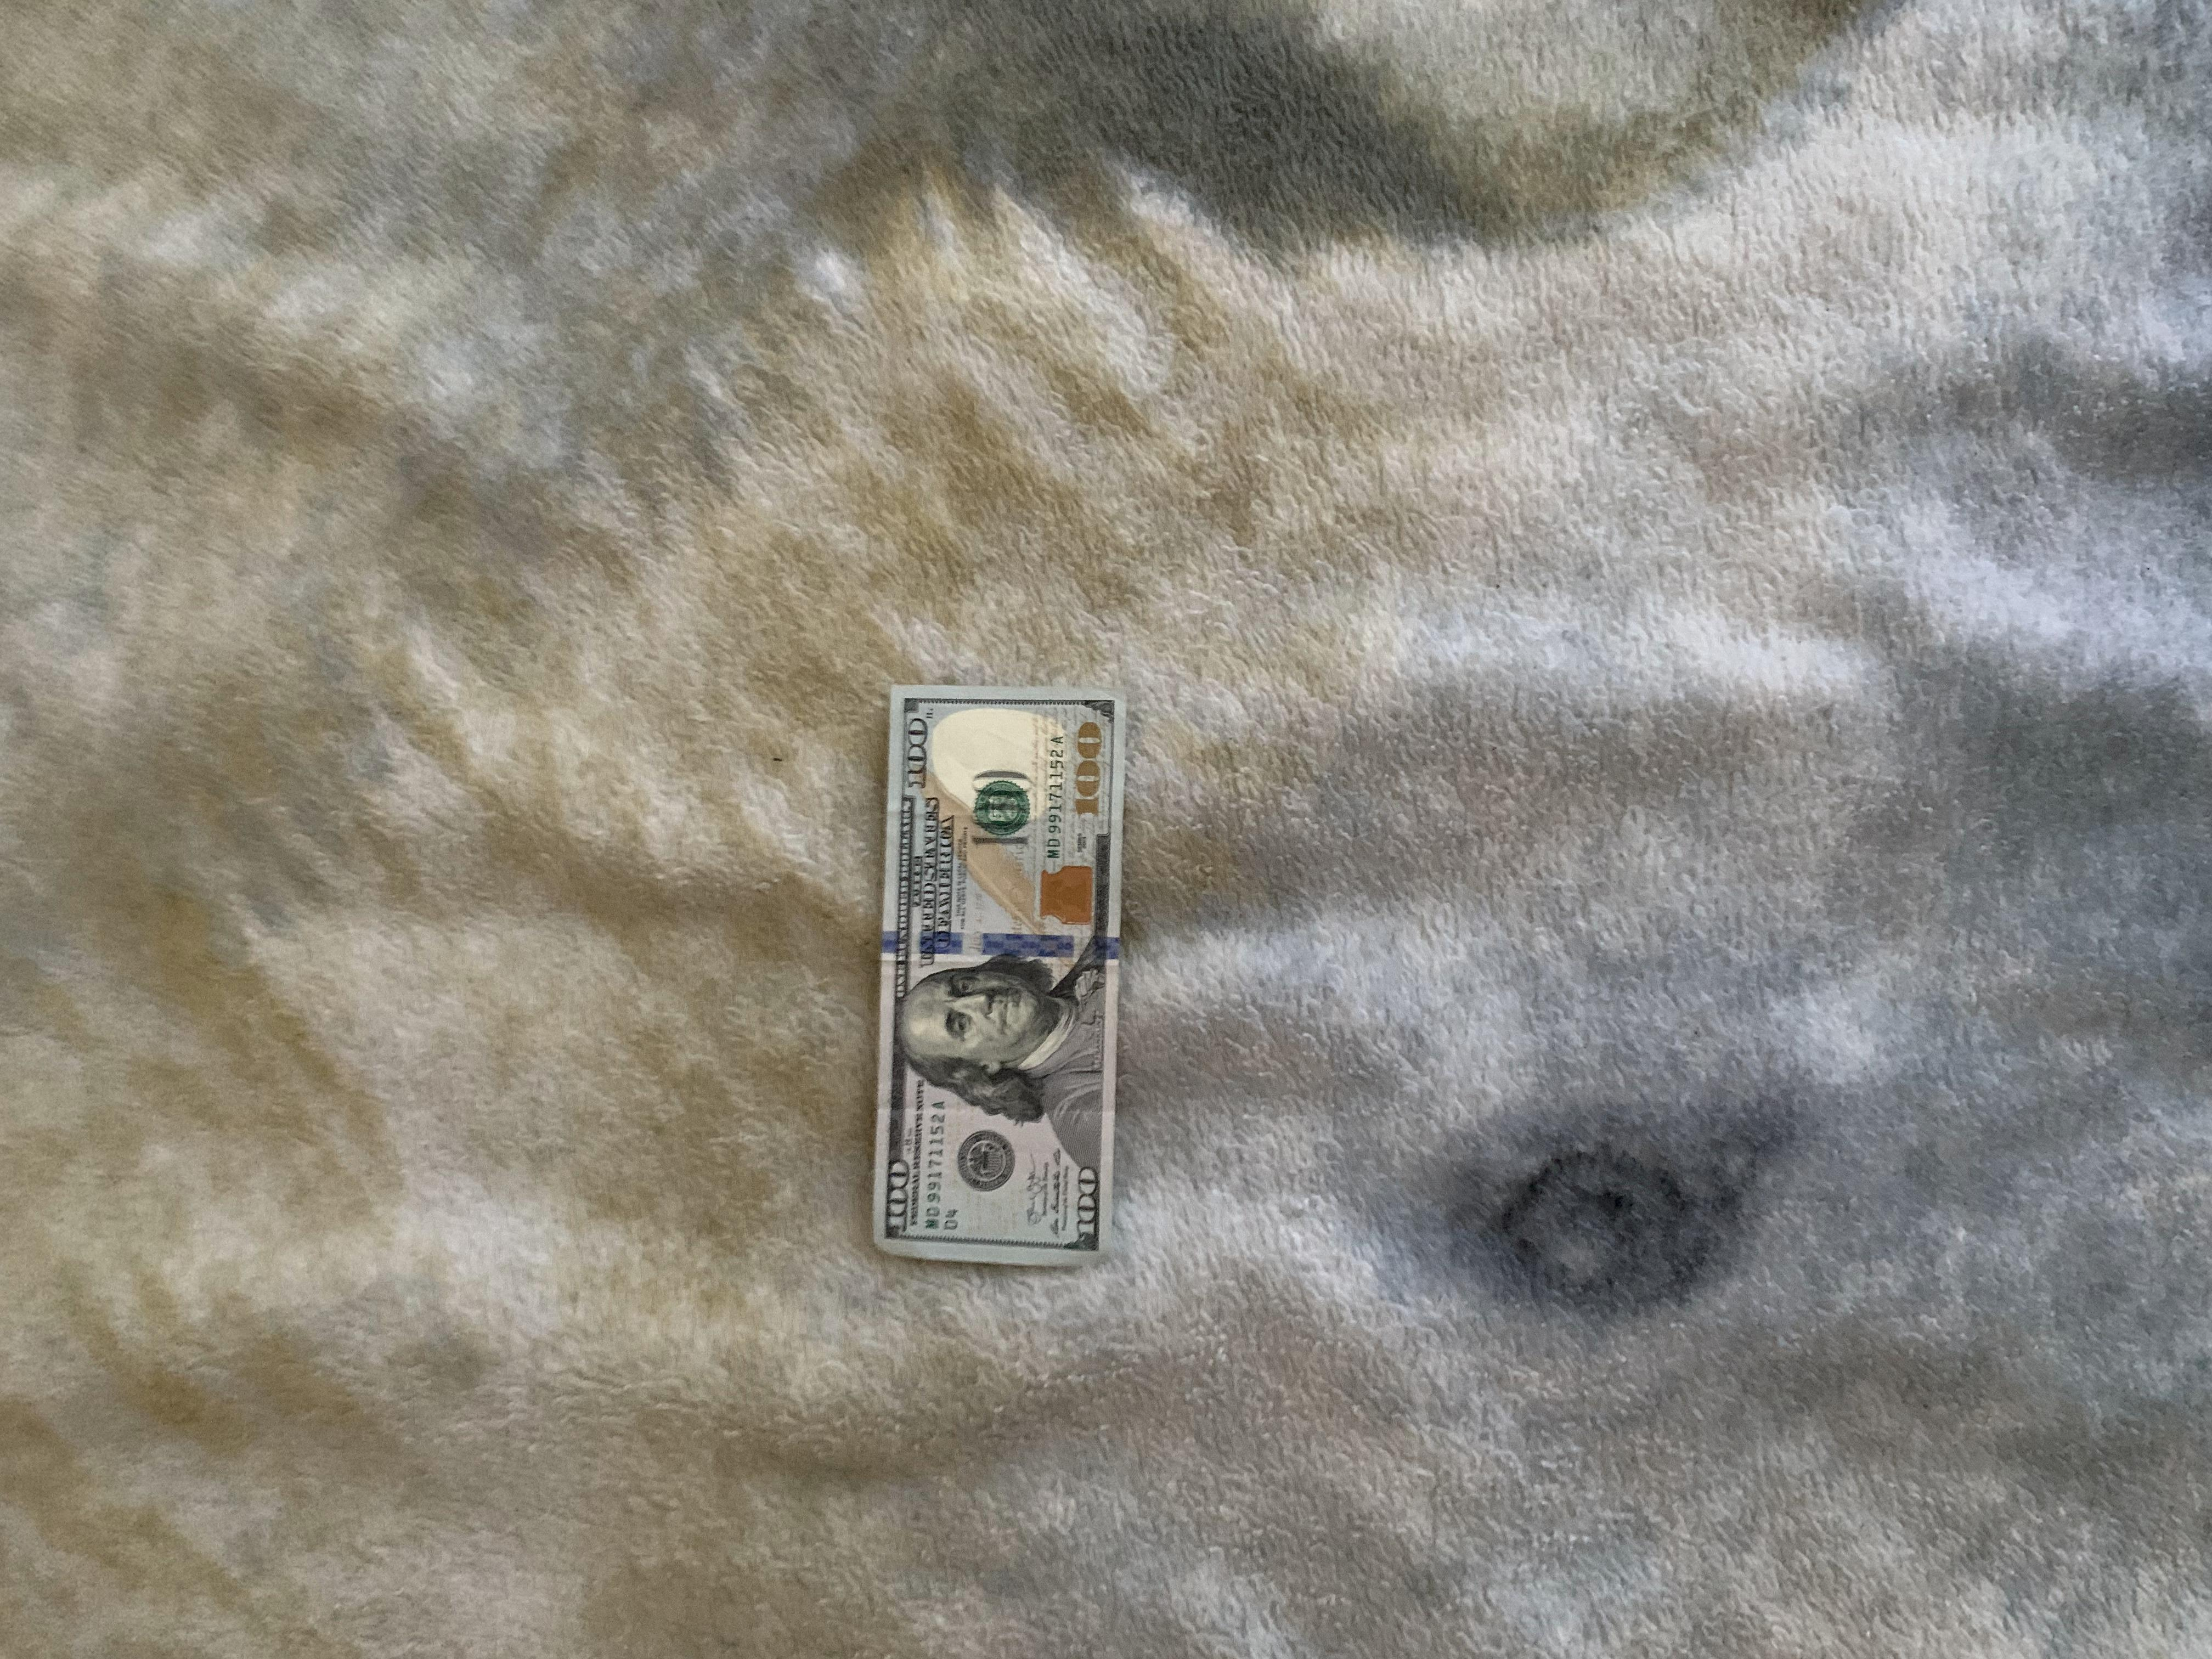HundredBill: (869, 683, 1137, 1265)
